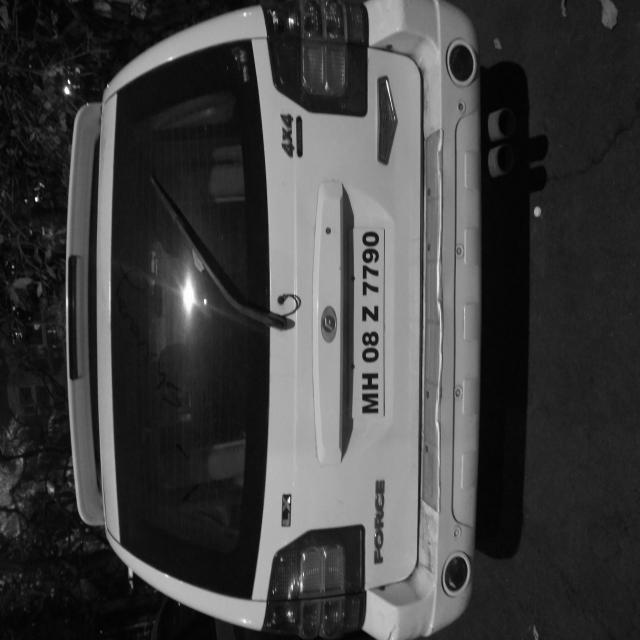car: (6, 69, 477, 640)
license-plate: (158, 468, 311, 517)
